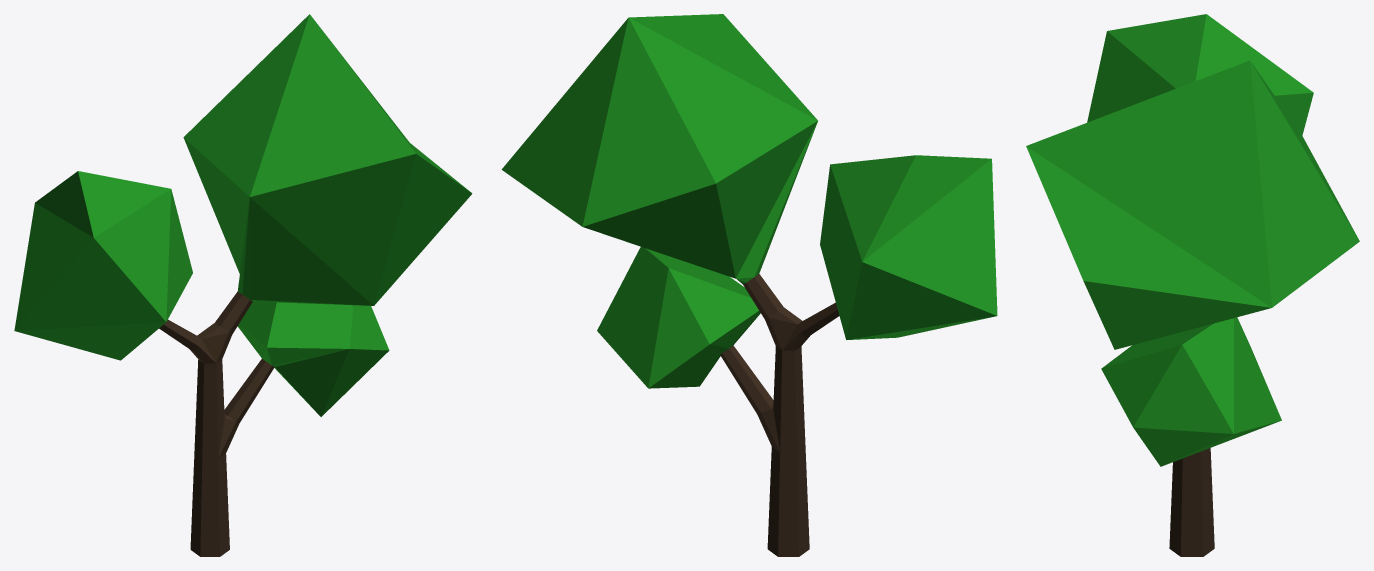
The model's file is tree2.fbx.
The picture shows the model from 3 angles, left to right: view 1: azimuth 30°, elevation 25°; view 2: azimuth 150°, elevation 25°; view 3: azimuth 270°, elevation 25°; orthographic projection. The views are drawn at different scales.
Parts seen in each view (by area): view 1: Icosphere; view 2: Icosphere; view 3: Icosphere.
Part boxes in pixels (x1,y1,x2,y2): Icosphere: (14, 14, 472, 556); Icosphere: (501, 14, 997, 556); Icosphere: (1026, 14, 1359, 556).
Bounding box in the file's own units: 336 × 363 × 197.
